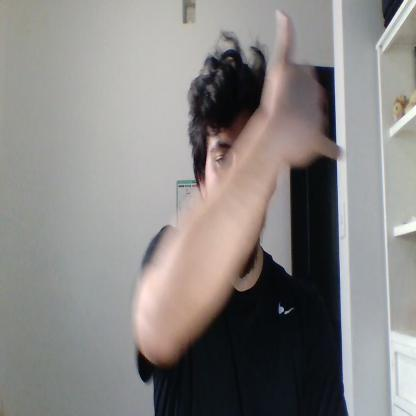Y: (262, 10, 342, 166)
